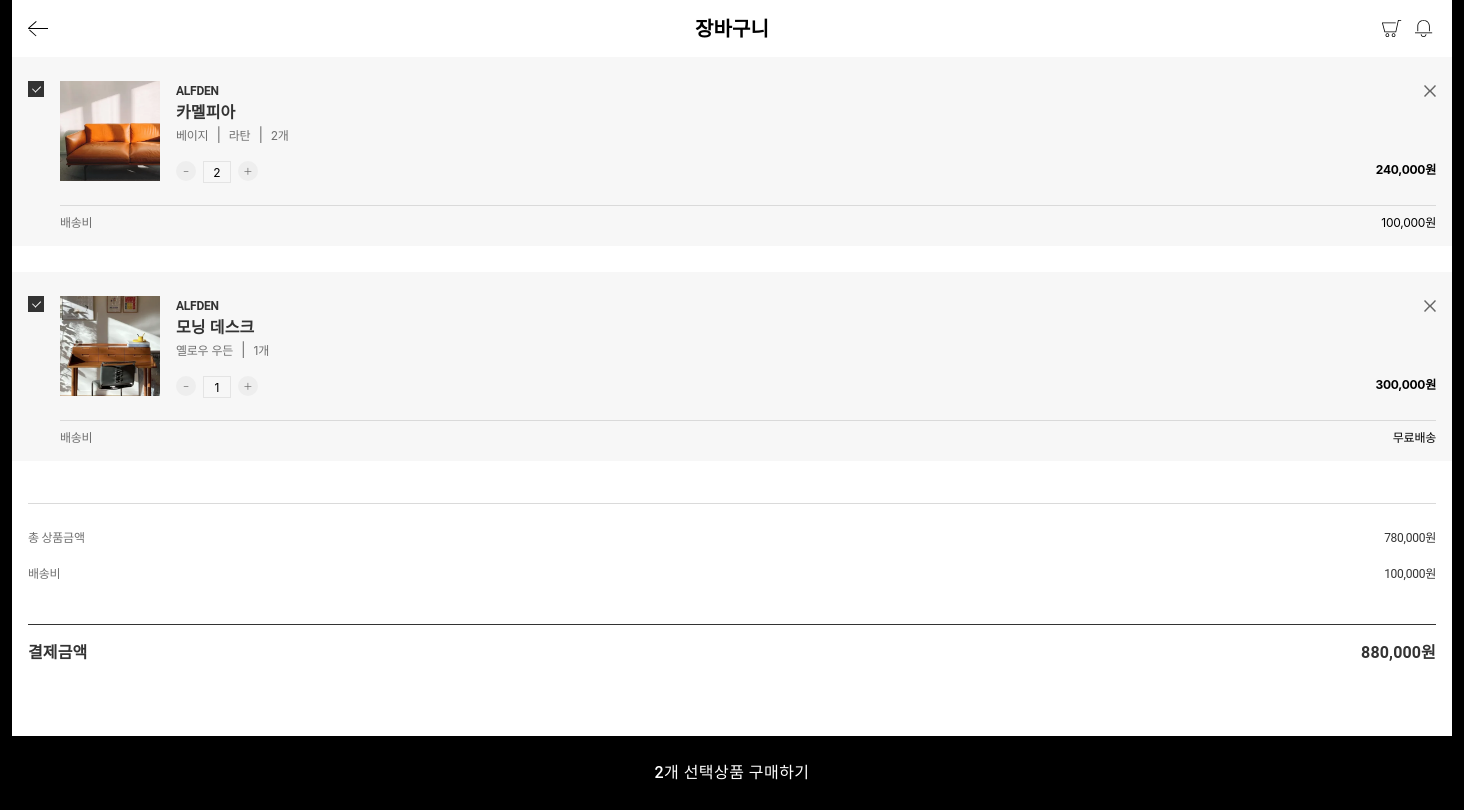
Test: 수량 직접 입력 → 확정하면 결제금액 반영 (카멜피아 5개)
The width and height of the screenshot is (1464, 810).
Replace the text in the field named "카멜피아 수량" with "5": (217, 172) [203, 161, 231, 183]
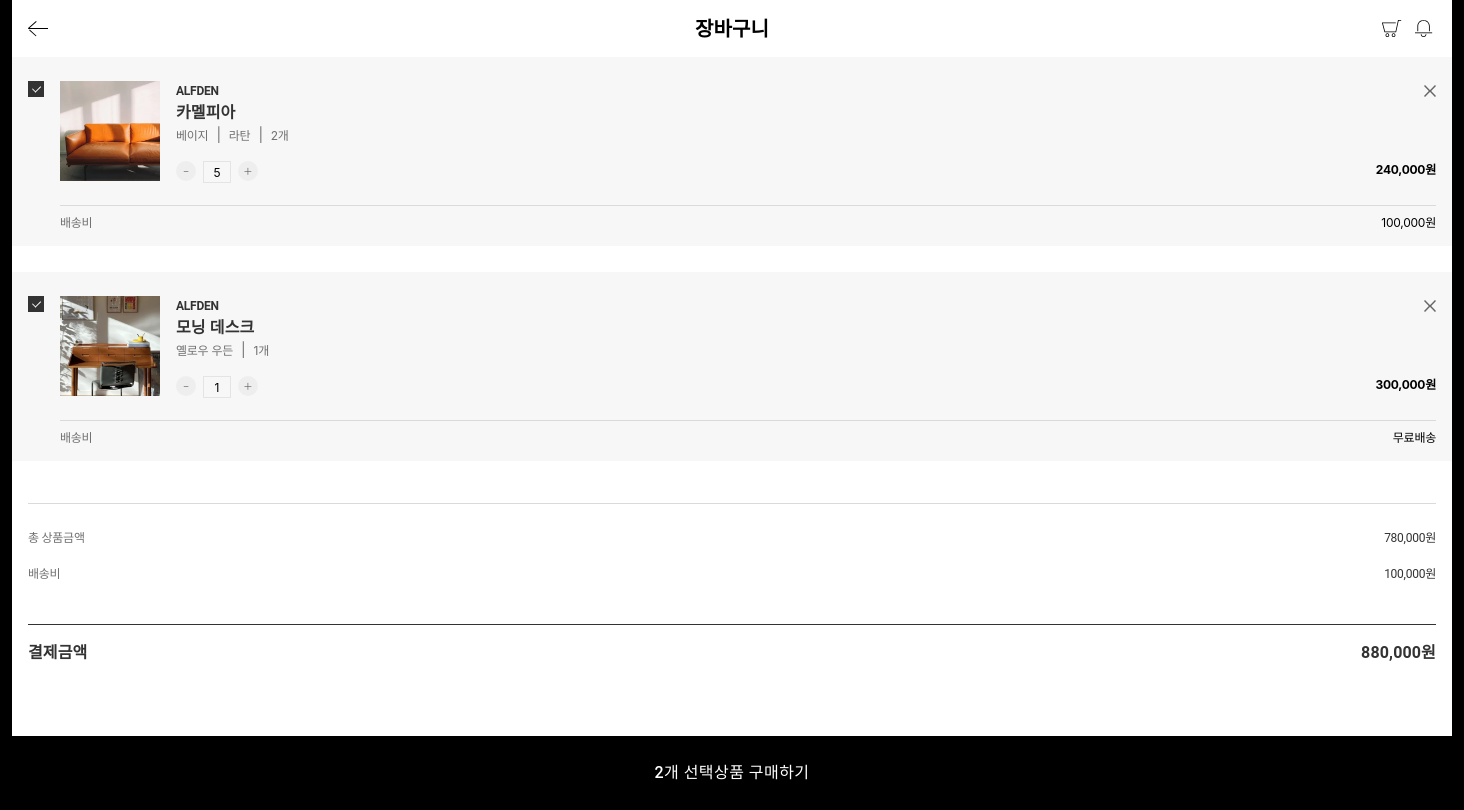
Leave the field named "카멜피아 수량", box [203, 161, 231, 183]
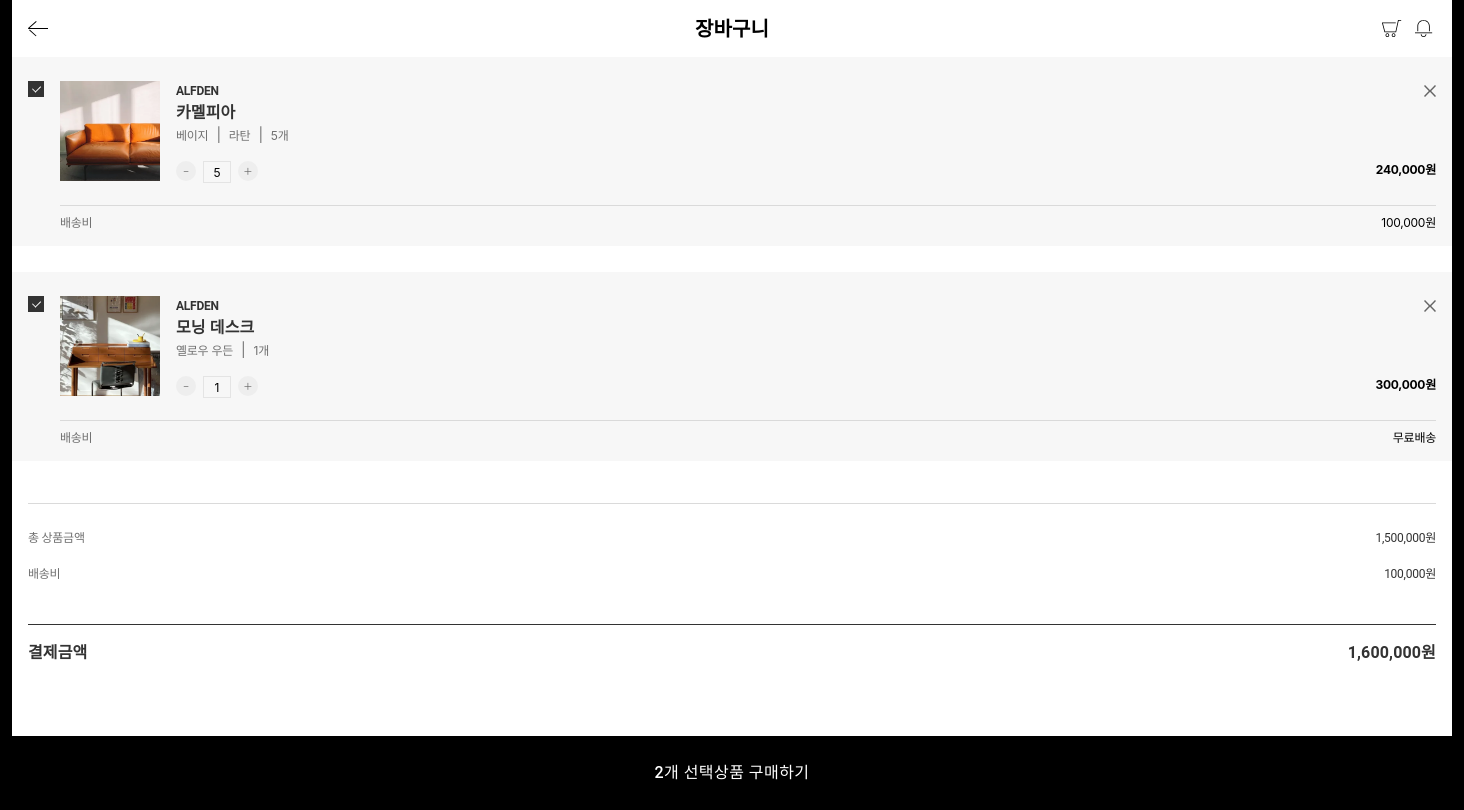
Expected: the text with test id "cart-total" reads "1,600,000원", [1348, 643, 1436, 662]
